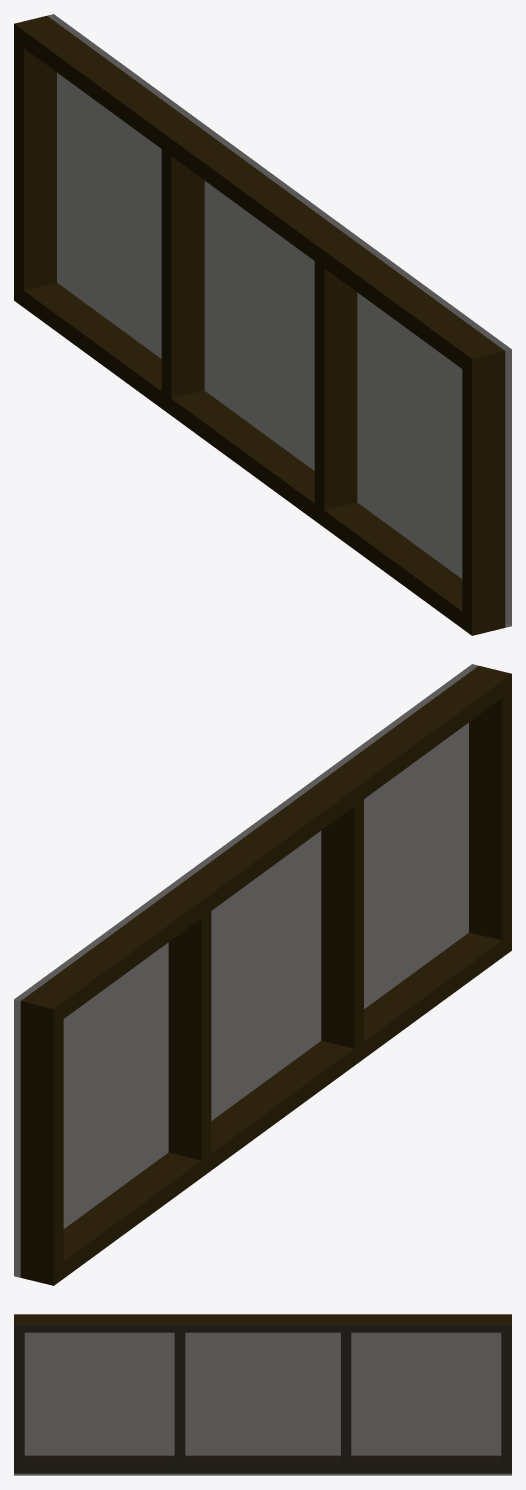
The model's file is 3-SquareWindows(Final).fbx.
3 renders of one model, top to bottom at view 1: azimuth 30°, elevation 25°; view 2: azimuth 150°, elevation 25°; view 3: azimuth 270°, elevation 25°, orthographic. The views are drawn at different scales.
Parts seen in each view (by area): view 1: 3SCC frame; view 2: 3SCC frame; view 3: 3SCC frame.
Part boxes in pixels (bbox=[...]): 3SCC frame: bbox=[14, 14, 511, 635]; 3SCC frame: bbox=[14, 664, 511, 1285]; 3SCC frame: bbox=[14, 1314, 511, 1475].
Bounding box in the file's own units: 121 × 800 × 2400.
